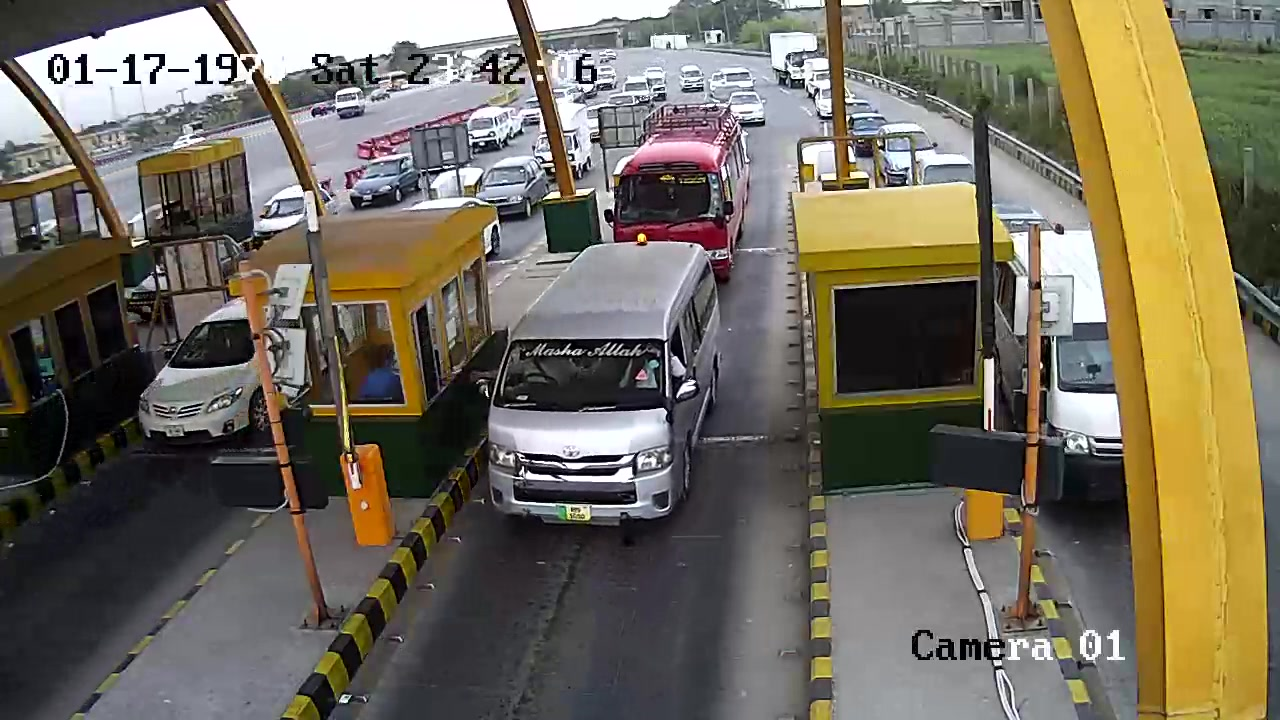F3: (486, 238, 717, 528)
